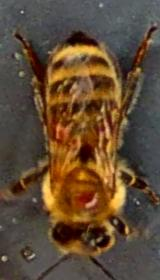varroa_mite: (88, 100, 124, 146), (46, 115, 81, 151), (68, 190, 108, 213)
